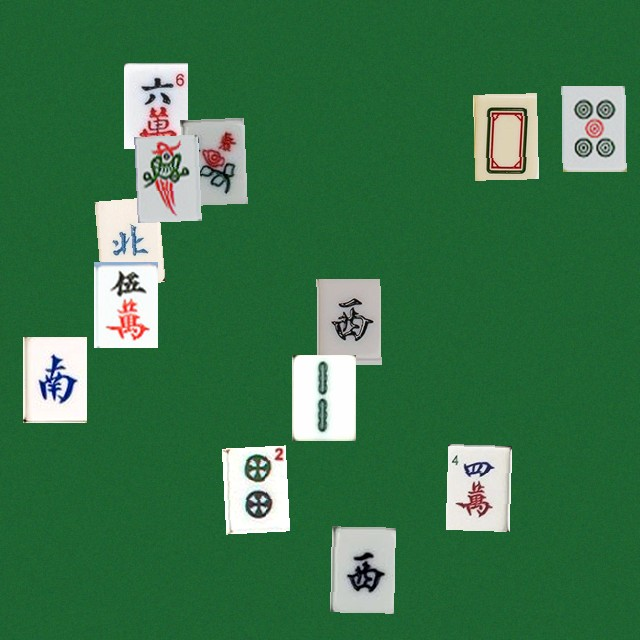tile: (123, 62, 187, 148), (561, 85, 625, 171), (472, 93, 536, 179), (316, 278, 380, 364), (221, 445, 285, 531), (94, 196, 158, 282), (93, 261, 157, 347), (291, 354, 355, 440), (180, 117, 244, 203), (445, 443, 509, 529), (330, 526, 394, 612), (22, 336, 86, 422), (134, 134, 198, 220)
